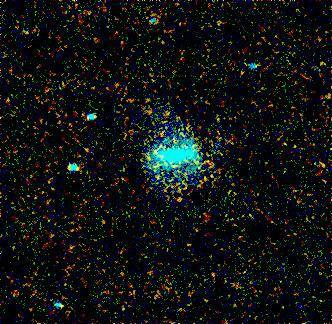star: (164, 187, 194, 217)
